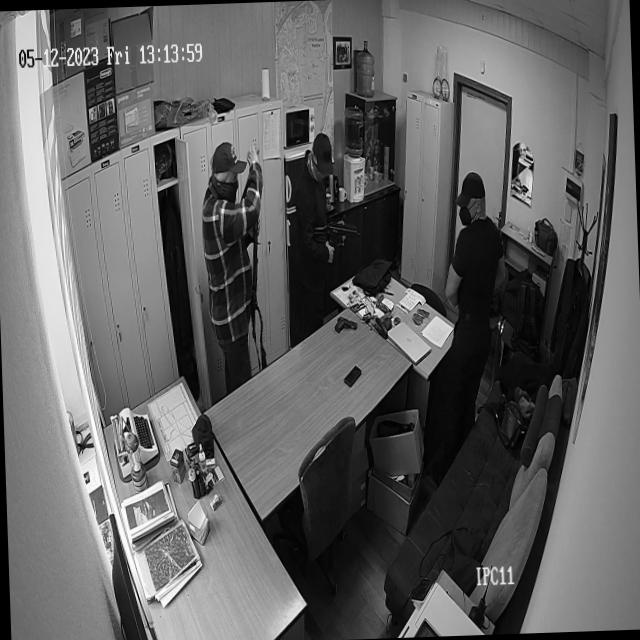gun: (310, 216, 362, 250), (250, 214, 262, 326)
person: (435, 165, 512, 358)
person with a gun: (198, 136, 272, 364), (286, 128, 364, 272)
